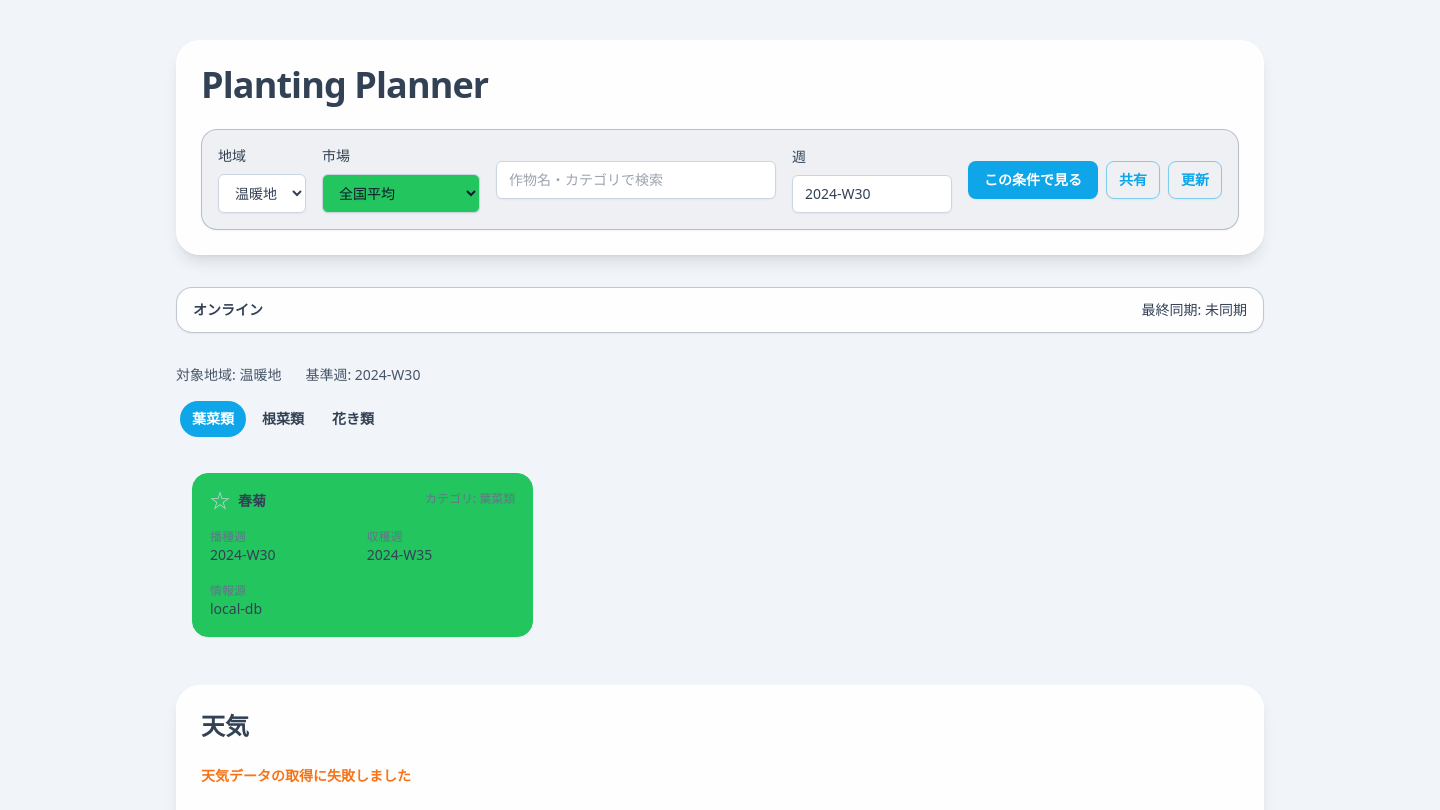
Test case: App recommendations / 地域変更と競合制御 › 地域変更で即時フェッチされテーブルが更新される
Expected: the text "春菊" is shown, x1=238 y1=491 x2=266 y2=511
Select "寒冷地" in the dropdown labelled "地域": (262, 194) x1=218 y1=174 x2=306 y2=213
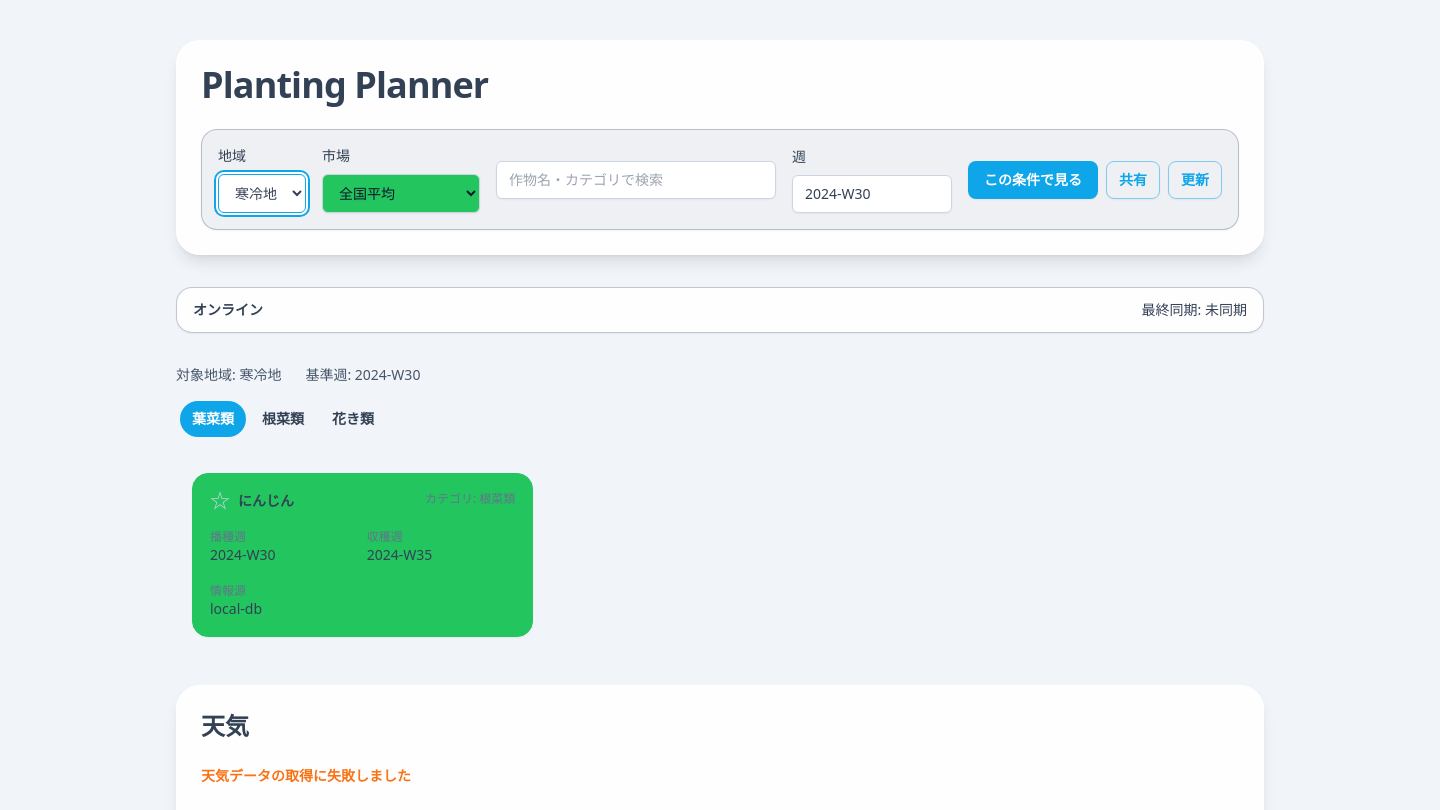
Expected: the row is shown, x1=192 y1=473 x2=533 y2=637
Result: the text "春菊" is gone
